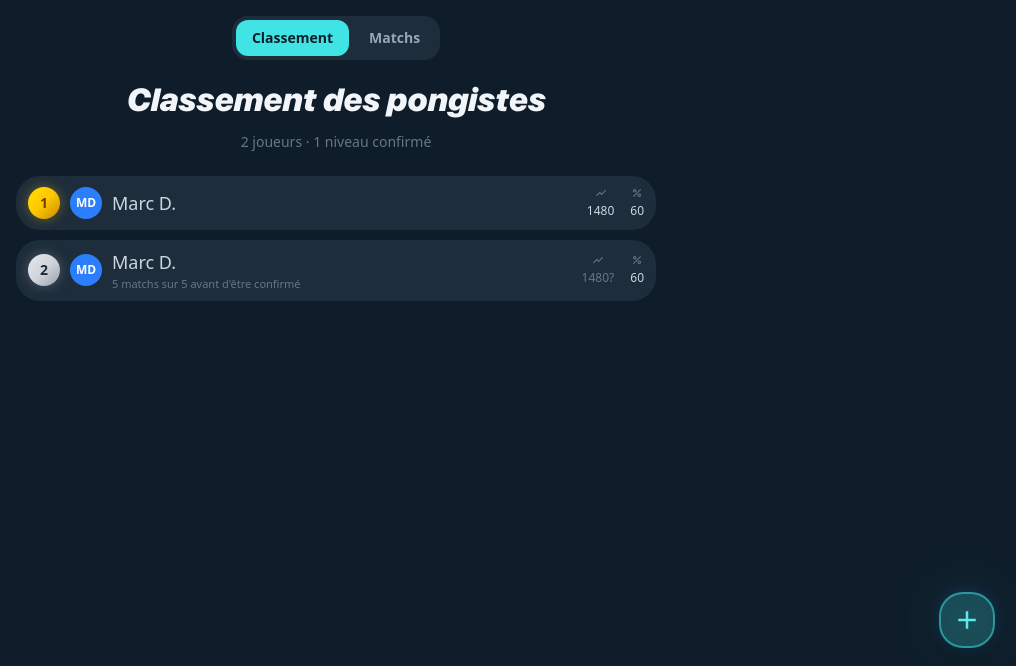
Test: PingpongPage › the heading follows the selected panel › drops the ranking title and its counts on Matchs
Expected: the text with test id "pingpong-count" is shown, [241,132,249,151]
Click the tab "Matchs" at (395, 38), box [353,20,436,56]
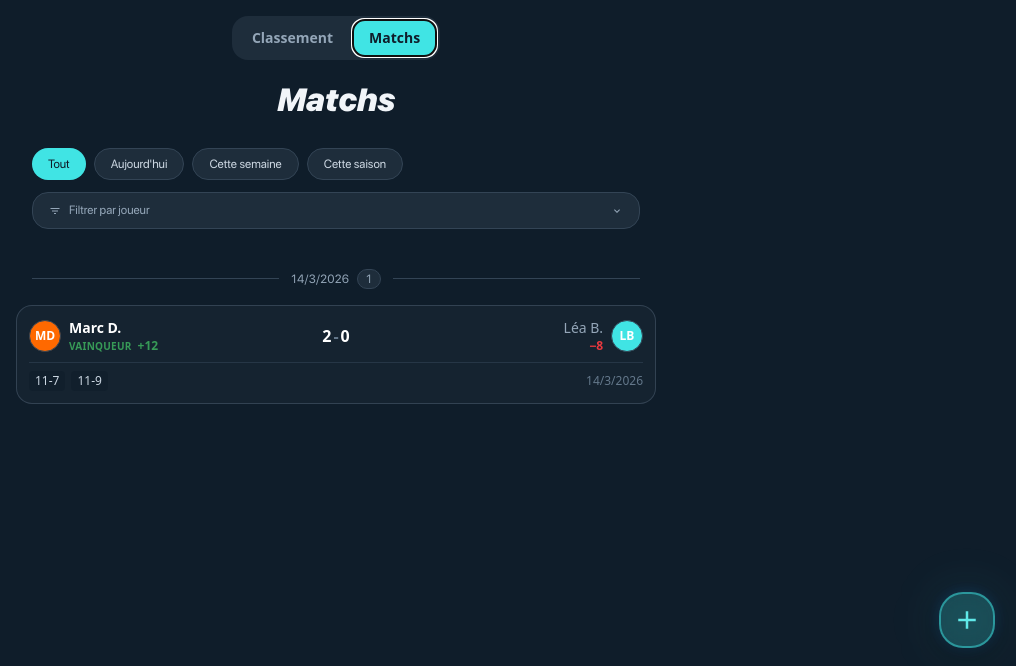
Expected: the heading "Classement des pongistes" is gone
Expected: the text with test id "pingpong-count" is gone
Expected: the text with test id "pingpong-confident-count" is gone
